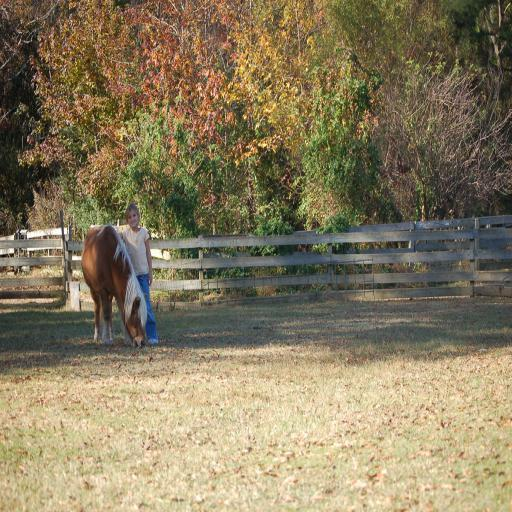horse: (79, 222, 148, 348)
